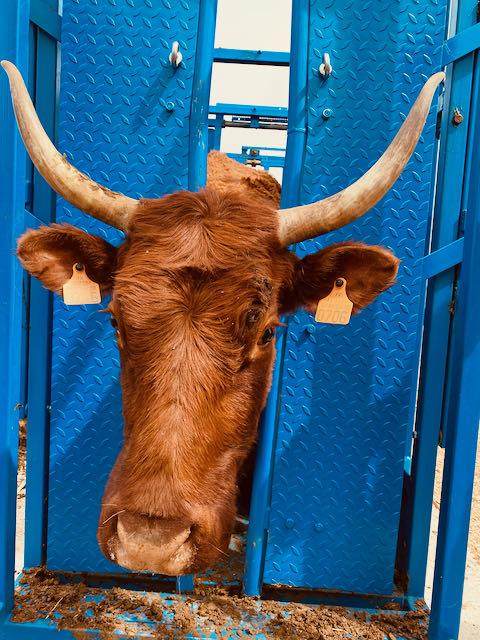muzzles: (98, 499, 209, 578)
